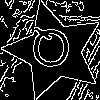Q: (29, 26, 72, 76)
